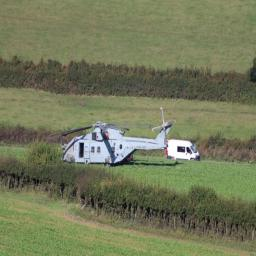helicopter: (51, 105, 176, 171)
